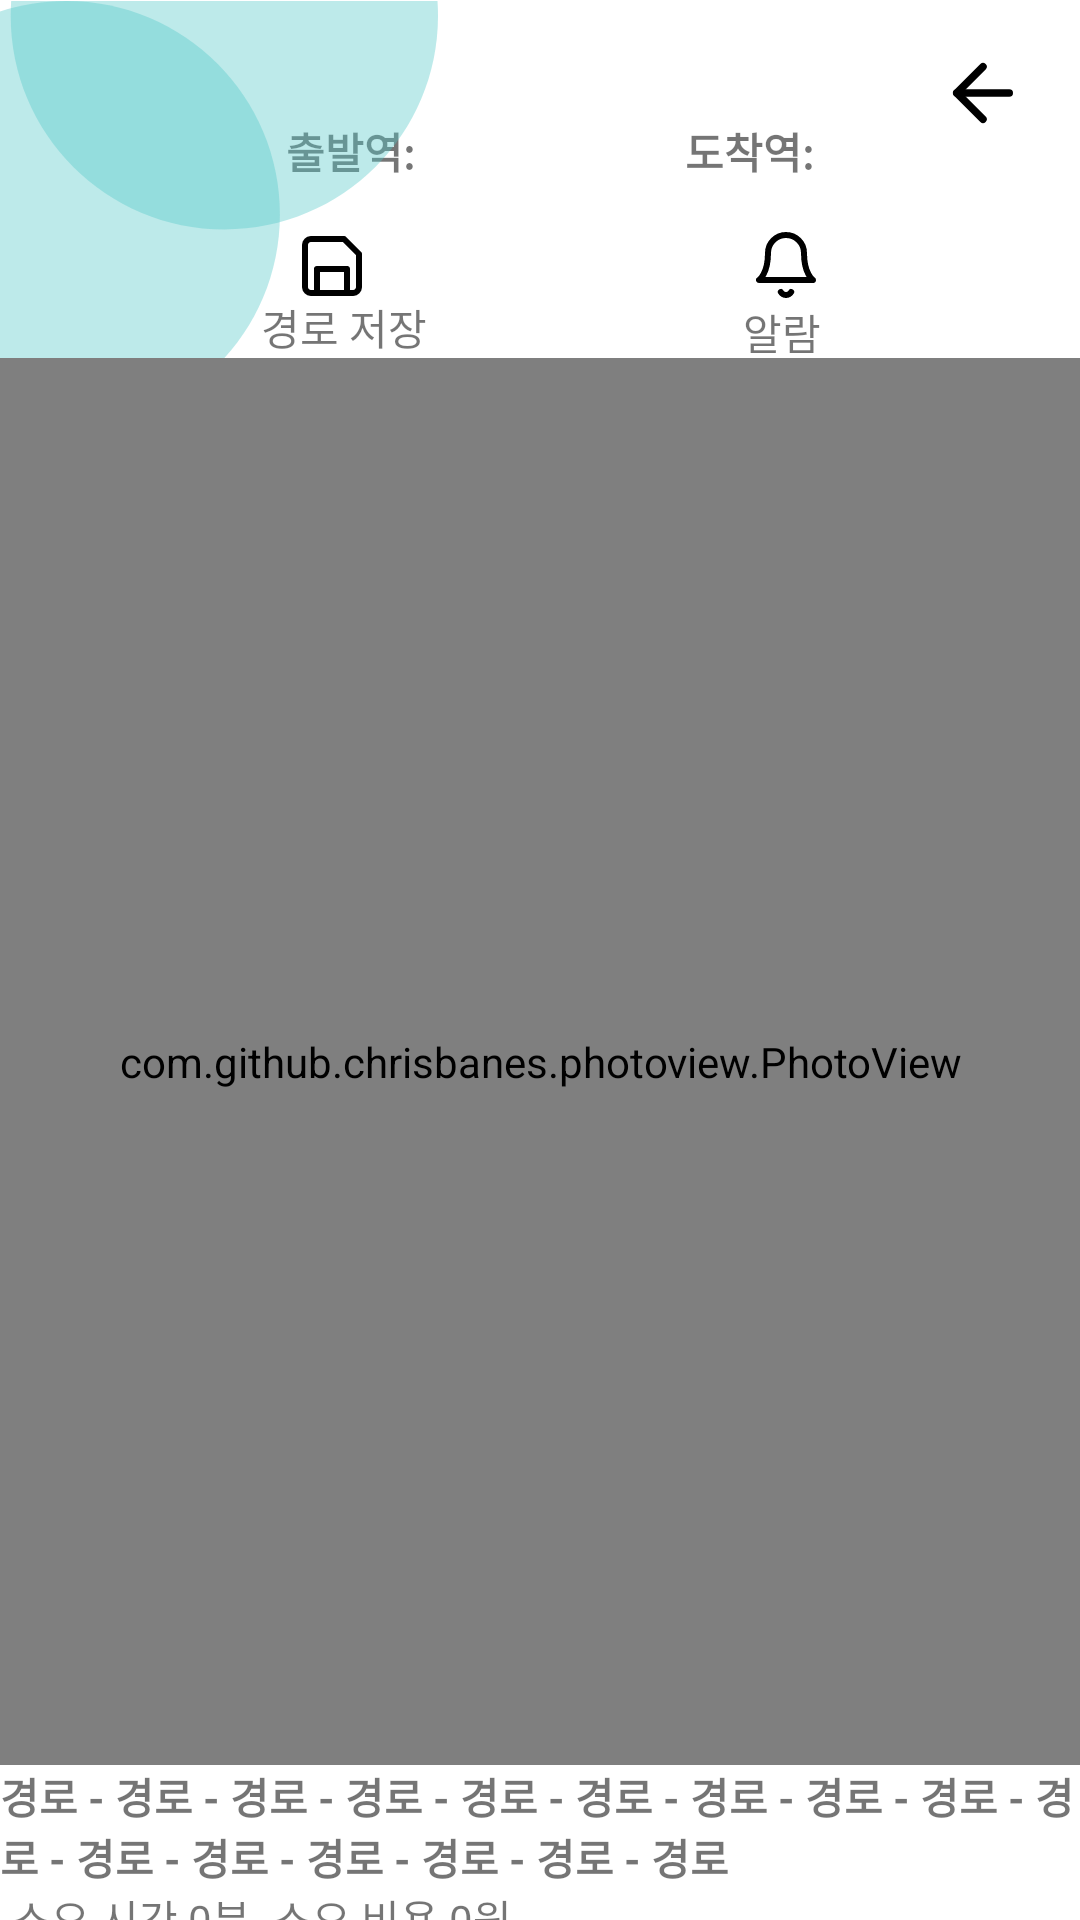

Named icons in this screenshot (1080*1920) and their bounding boxes, bbox=(x1, y1, x2, y2):
goback: bbox=(952, 62, 1013, 124)
